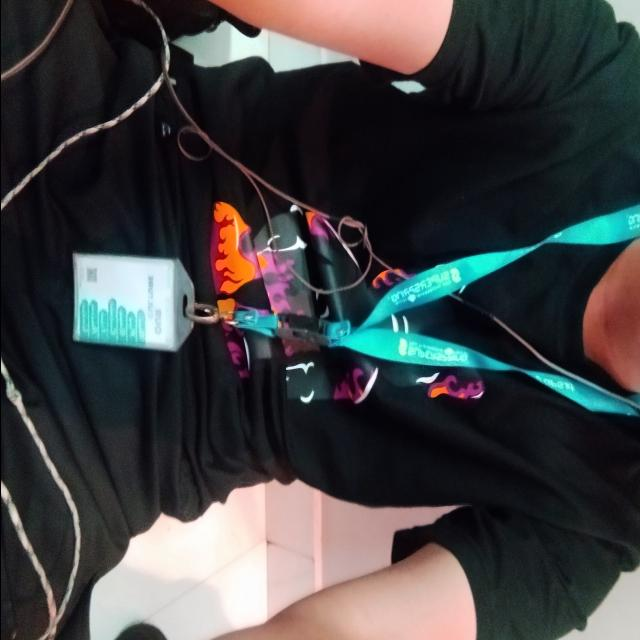ID_card: (70, 247, 196, 350)
